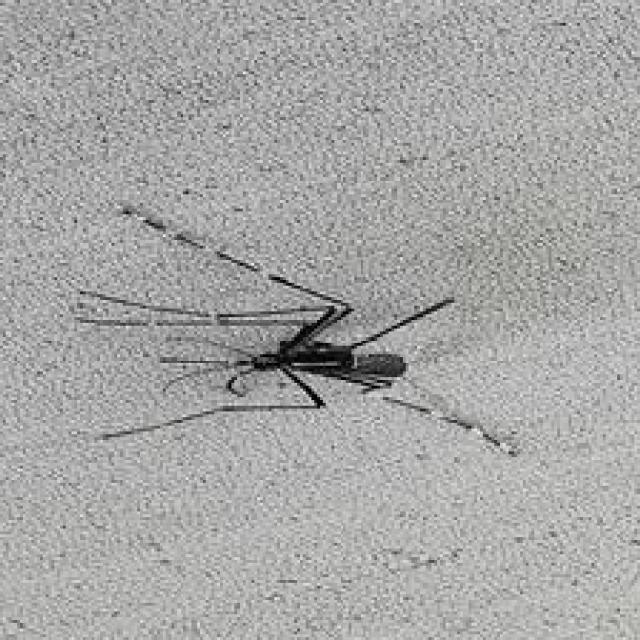Aedes albopictus: (69, 194, 520, 460)
